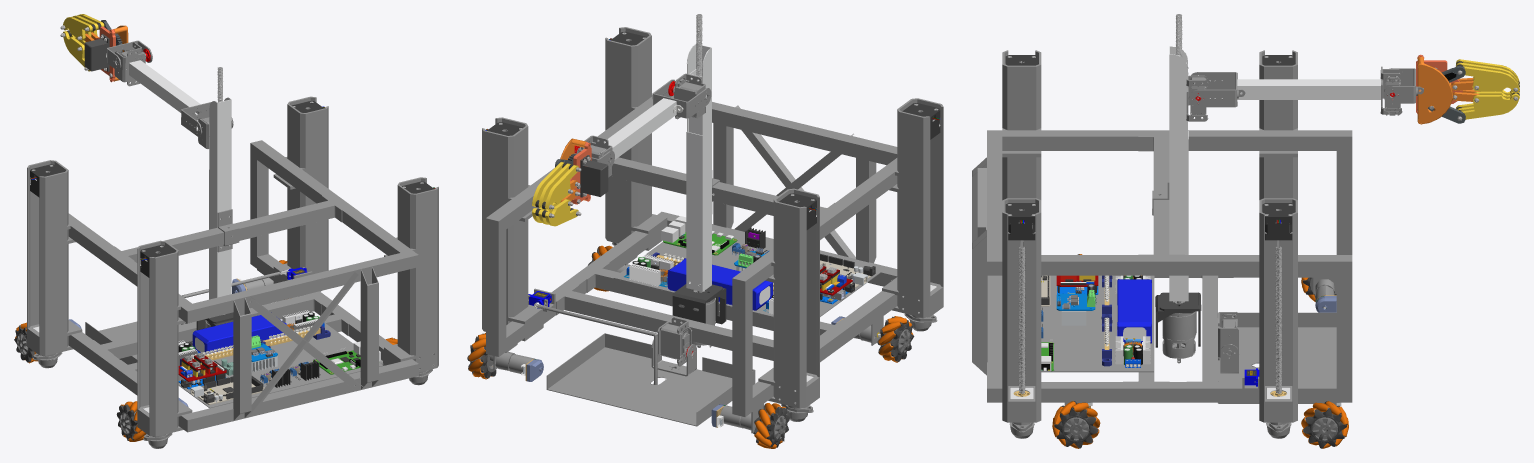
The model's file is rabbit_robo.glb.
3 views of the same model, side by side, from view 1: azimuth 30°, elevation 25°; view 2: azimuth 150°, elevation 25°; view 3: azimuth 270°, elevation 25° (orthographic). The views are drawn at different scales.
Parts seen in each view (by area): view 1: Body1.243; view 2: Body1.243; view 3: Body1.243.
Boxes of the visible parts, x1=… form: Body1.243: x1=14, y1=14, x2=438, y2=448; Body1.243: x1=467, y1=14, x2=943, y2=448; Body1.243: x1=972, y1=14, x2=1519, y2=448.
Size of the model in its own units: 2.24 by 2.24 by 3.1.
